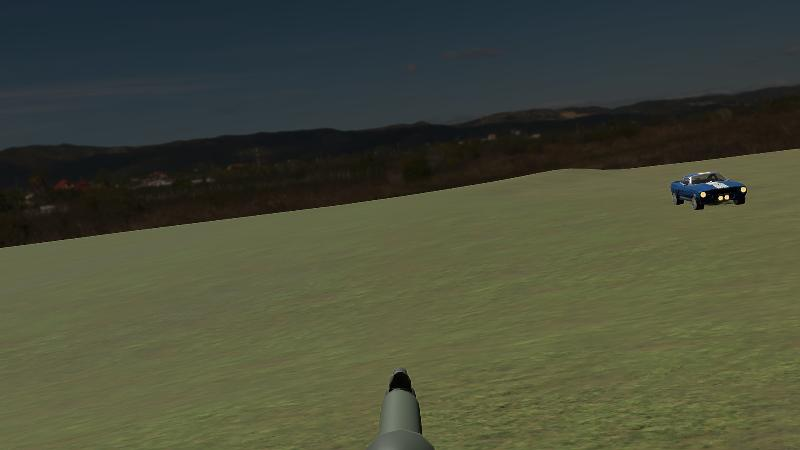car: (670, 170, 747, 211)
